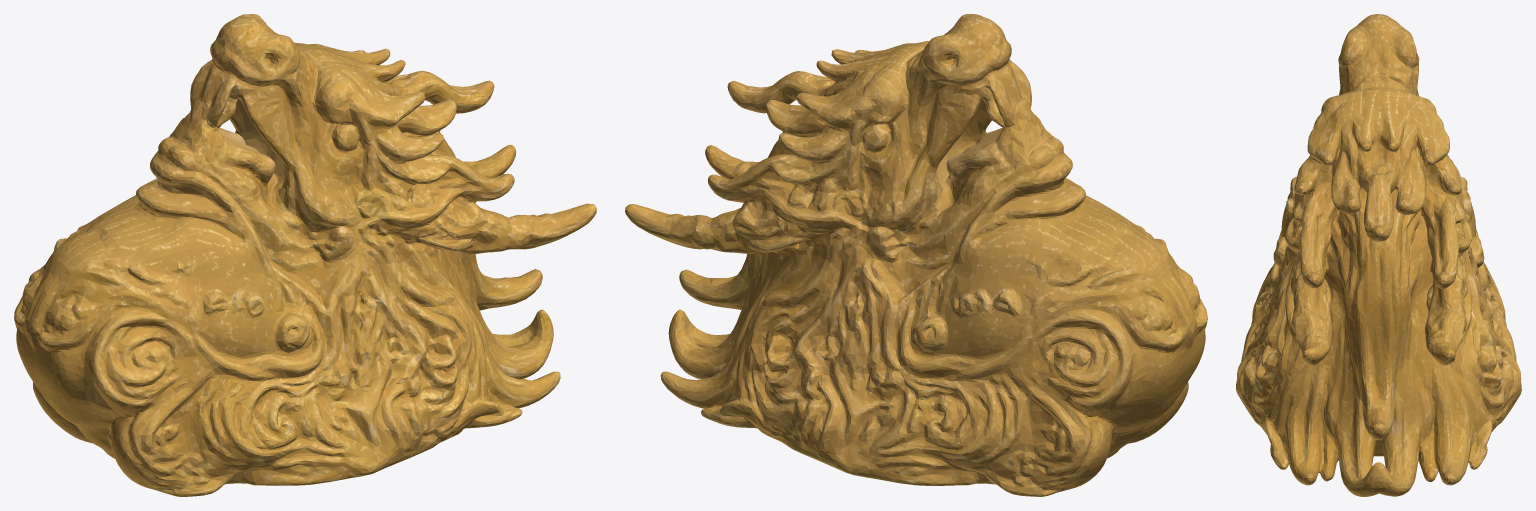
File: golden-dragon.glb
3 views of the same model, side by side, from view 1: azimuth 30°, elevation 25°; view 2: azimuth 150°, elevation 25°; view 3: azimuth 270°, elevation 25° (orthographic). The views are drawn at different scales.
Parts seen in each view (by area): view 1: golden dragon_textured.obj; view 2: golden dragon_textured.obj; view 3: golden dragon_textured.obj.
Part boxes in pixels (x1=…): golden dragon_textured.obj: x1=14, y1=14, x2=596, y2=496; golden dragon_textured.obj: x1=625, y1=14, x2=1207, y2=496; golden dragon_textured.obj: x1=1236, y1=14, x2=1521, y2=496.
Size of the model in its own units: 1.99 by 1.49 by 1.07.
Materials: 1 (1 with a texture image).
